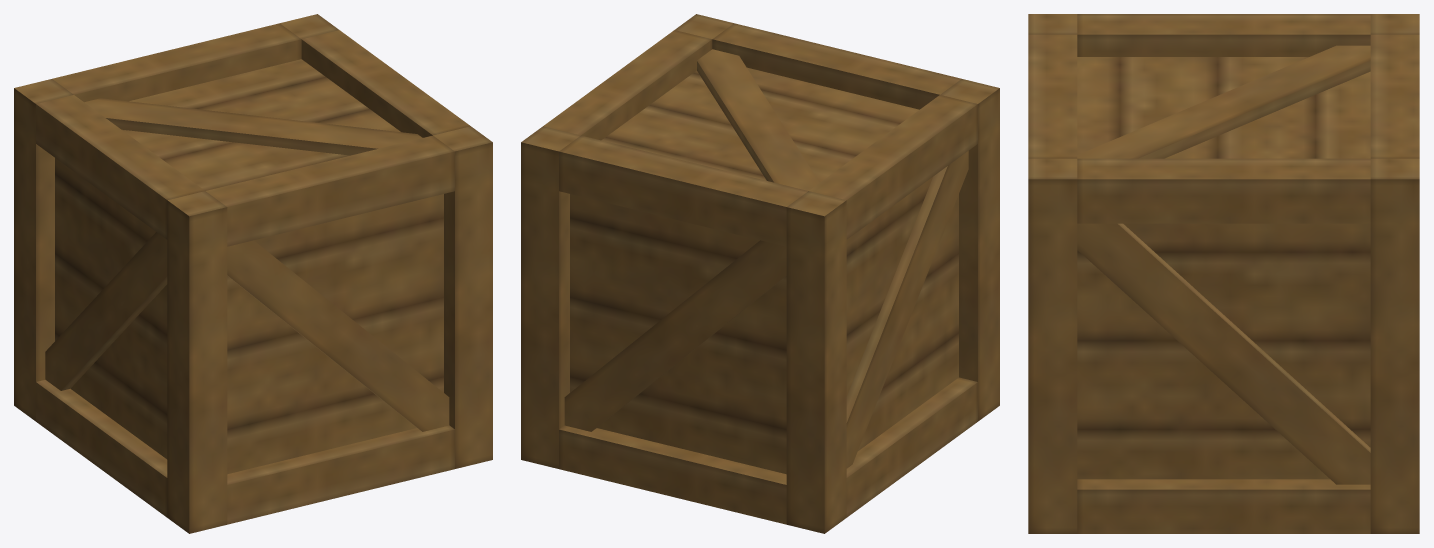
The model's file is Crate.dae.
3 views of the same model, side by side, from view 1: azimuth 30°, elevation 25°; view 2: azimuth 150°, elevation 25°; view 3: azimuth 270°, elevation 25° (orthographic). The views are drawn at different scales.
Parts seen in each view (by area): view 1: Main; view 2: Main; view 3: Main.
Part boxes in pixels (box(x1,y1,x2,y2)): Main: box(14, 14, 492, 533); Main: box(521, 14, 999, 533); Main: box(1028, 14, 1419, 533).
Size of the model in its own units: 1 by 1 by 1.
